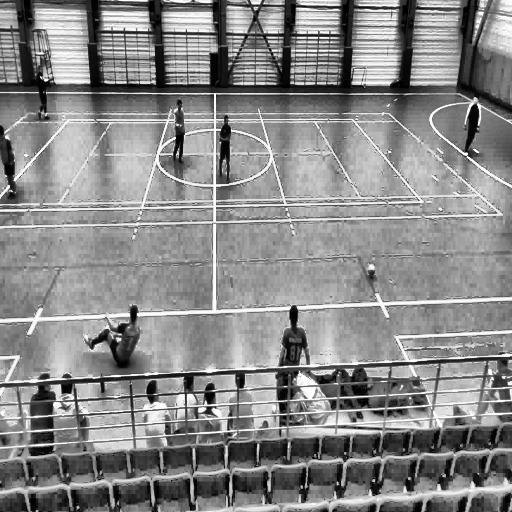ball: (366, 262, 376, 282)
player: (0, 122, 21, 200), (460, 92, 482, 161), (36, 60, 54, 123), (217, 114, 232, 183), (172, 98, 185, 165)
